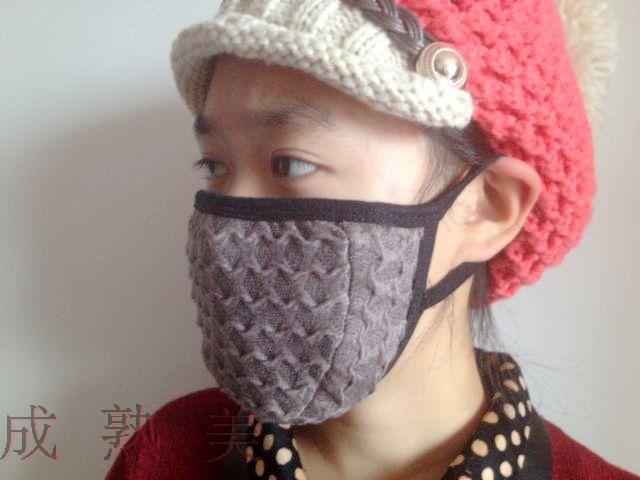OK: (171, 99, 478, 406)
